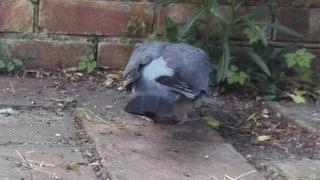wood pigeon: (122, 41, 212, 126)
